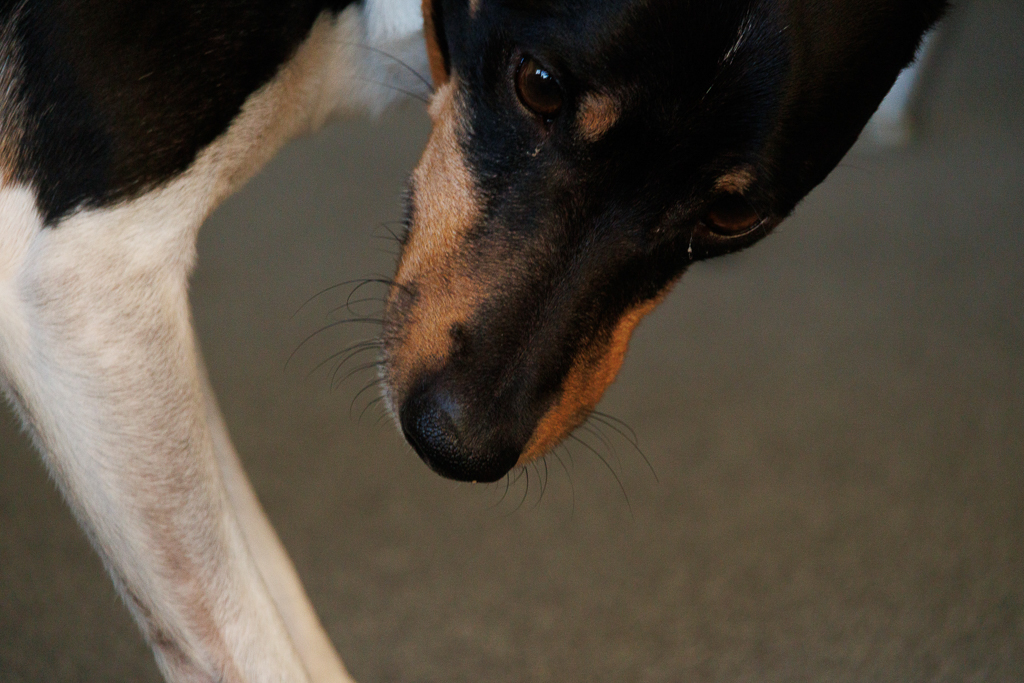Dog: (1, 0, 957, 683)
